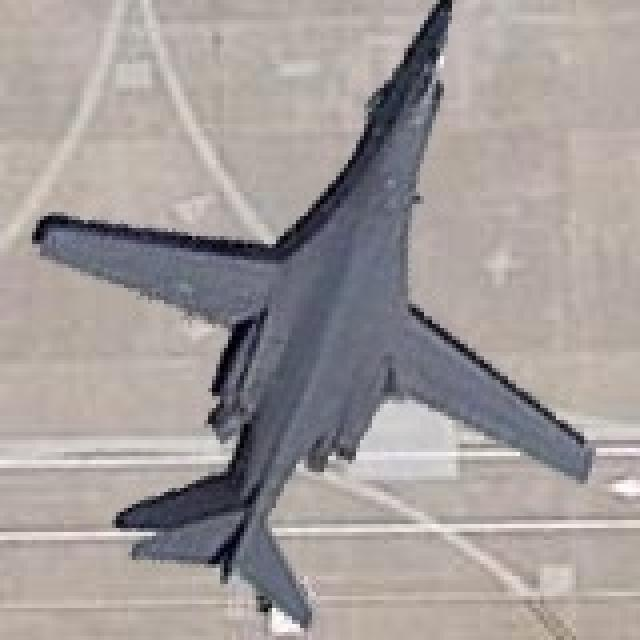B-1_TopDown: (28, 0, 600, 636)
